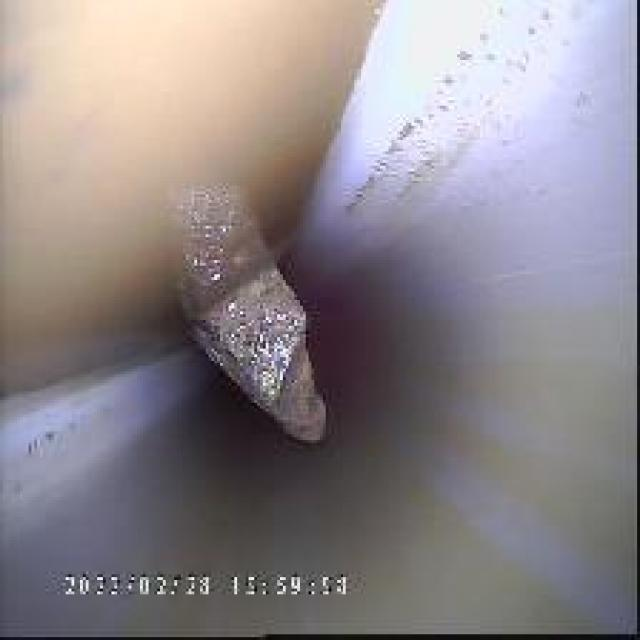stone: (152, 163, 334, 466)
